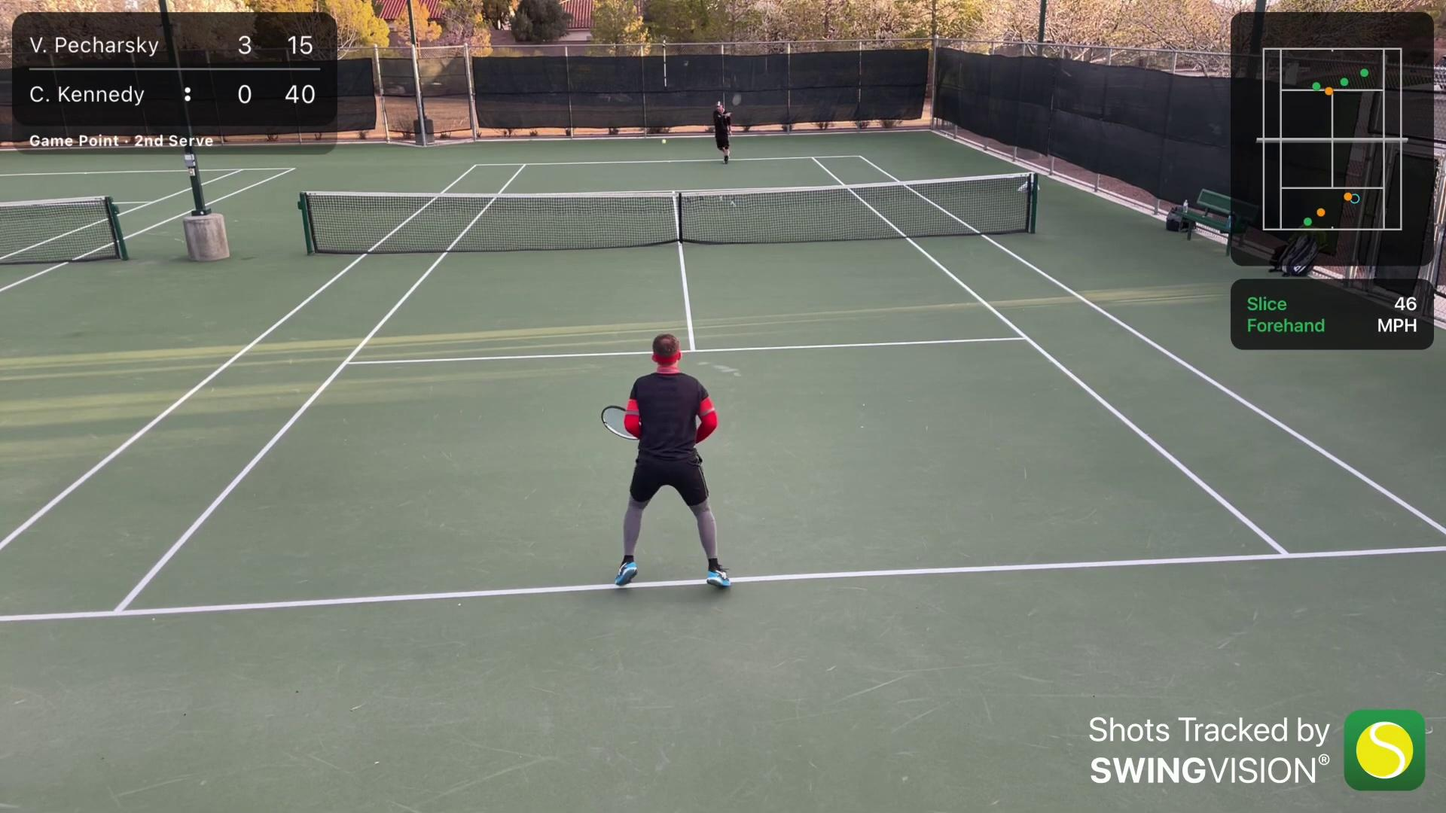ball: (661, 139, 668, 145)
